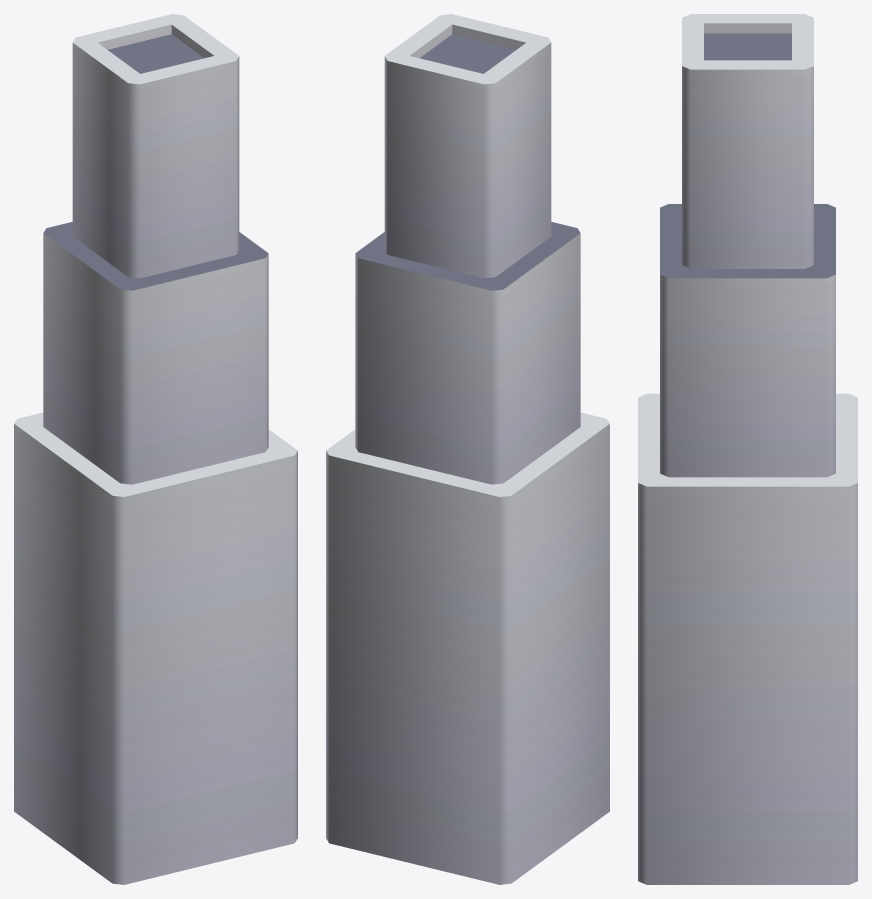
Rendered from low-detail-building-f.glb.
3 renders of one model, left to right at view 1: azimuth 30°, elevation 25°; view 2: azimuth 150°, elevation 25°; view 3: azimuth 270°, elevation 25°, orthographic. The views are drawn at different scales.
Visible parts, largest first — view 1: low-detail-building-f; view 2: low-detail-building-f; view 3: low-detail-building-f.
Boxes of the visible parts, <box> form: low-detail-building-f: <box>14,14,297,884</box>; low-detail-building-f: <box>326,14,609,884</box>; low-detail-building-f: <box>638,14,857,884</box>.
Bounding box in the file's own units: 0.5 × 2 × 0.5.
1 material, 1 textured.
